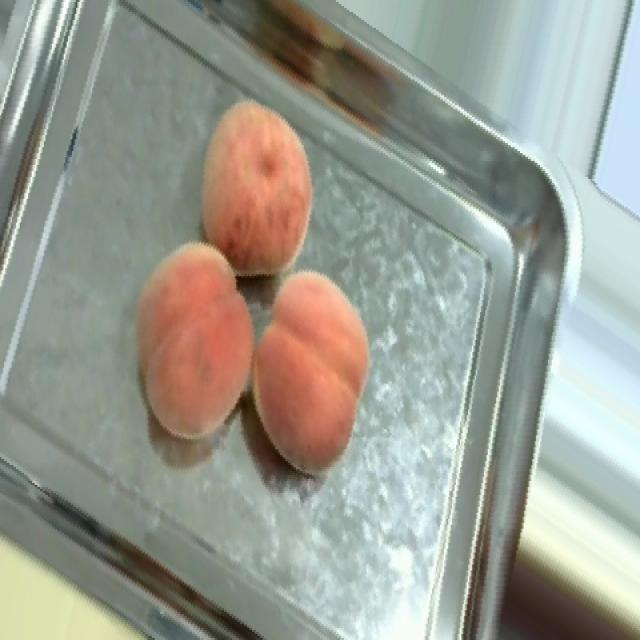Fruit: (100, 221, 283, 461), (229, 252, 388, 491), (175, 82, 333, 296), (0, 487, 184, 640)
